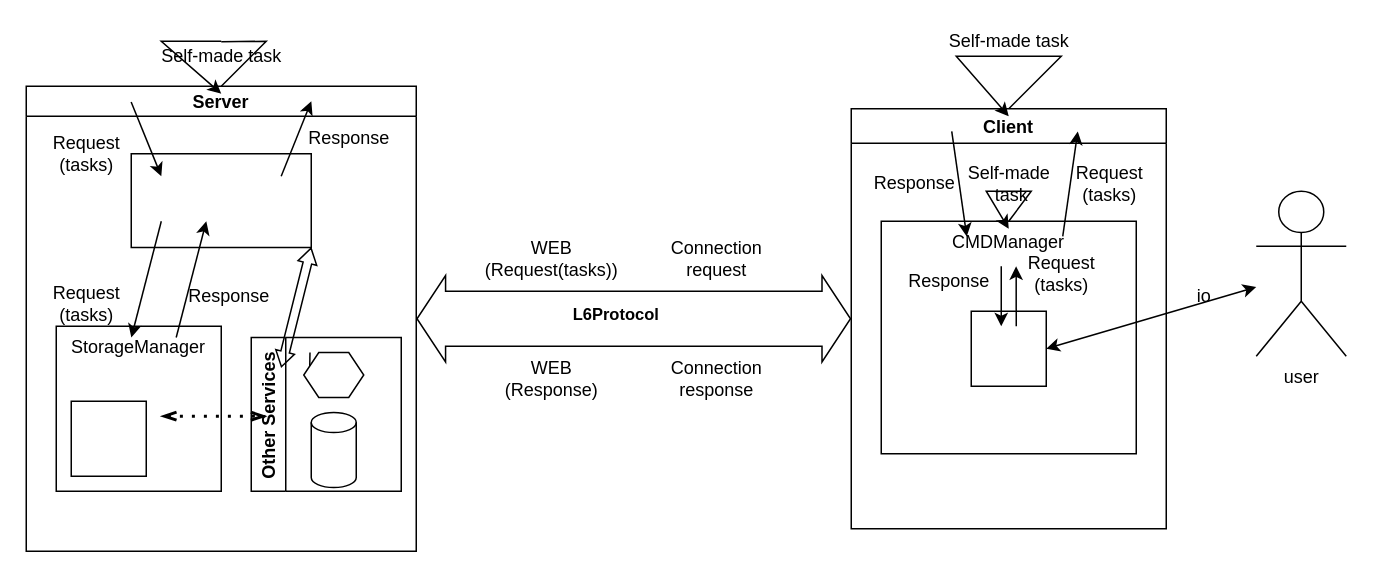
The diagram is 1373 pixels wide and 578 high, and some of its shapes have lost their labels. The shapes that lost their labels are listed below. From the top down, each one's centre as x and y in pixels, then its label:
point (220, 200): ServerTaskManager (piority)
point (1008, 348): cmd-s
point (108, 438): Store <T>
